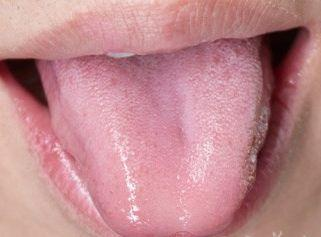baitaishe: (35, 38, 271, 237)
